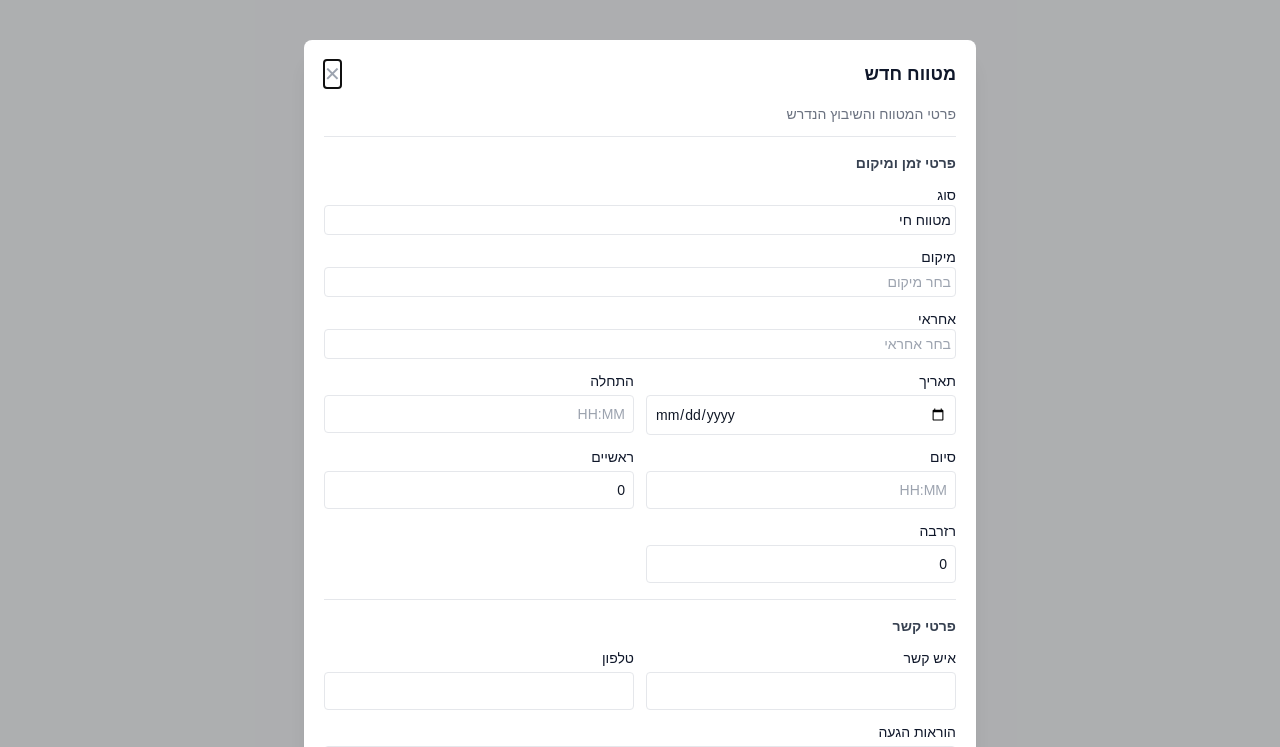
it: RangeFormModal › shows readable range type choices
Focus the dropdown with test id "new-range-type" at (640, 220), box [324, 205, 956, 235]
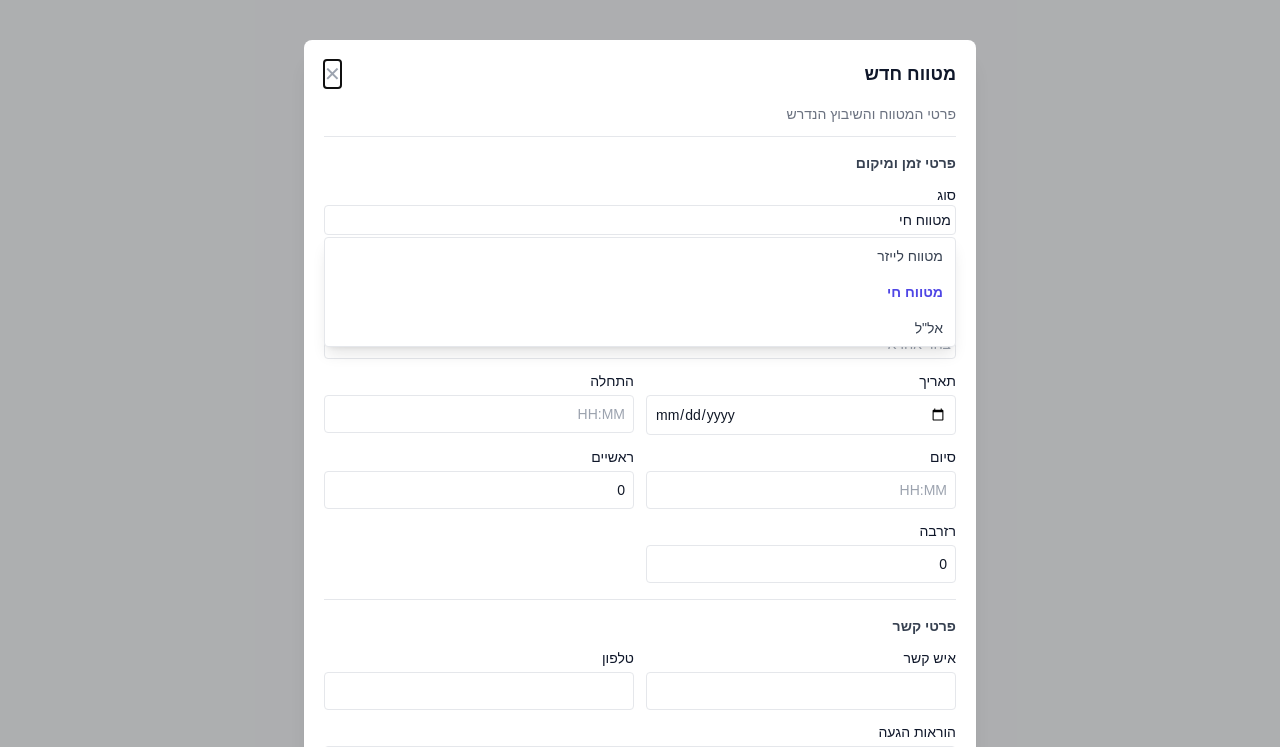
Now the list is shown, box [324, 237, 956, 347]
Now the number of options is 3, box [325, 238, 955, 274]; [325, 274, 955, 310]; [325, 310, 955, 346]
Now the button "מטווח לייזר" is shown, box [325, 238, 955, 274]
